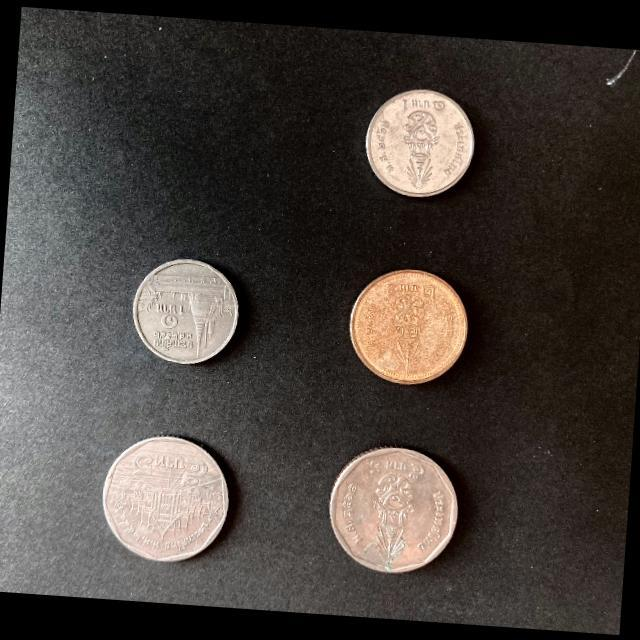1 Bath: (364, 83, 477, 203), (133, 256, 245, 369)
2 Bath: (348, 263, 475, 392)
5 Bath: (326, 443, 461, 579), (100, 436, 234, 568)
